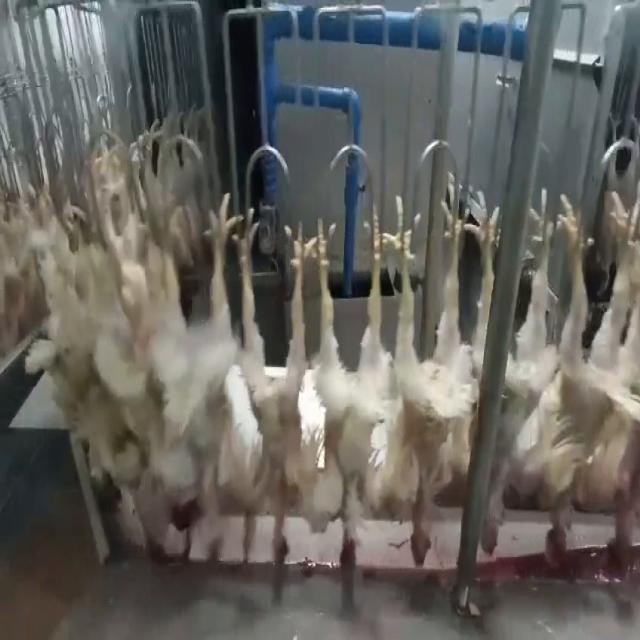chicken: (142, 186, 230, 563), (392, 170, 462, 574), (240, 207, 314, 570), (314, 201, 390, 550), (524, 184, 590, 568), (589, 177, 639, 578), (467, 186, 512, 563)
